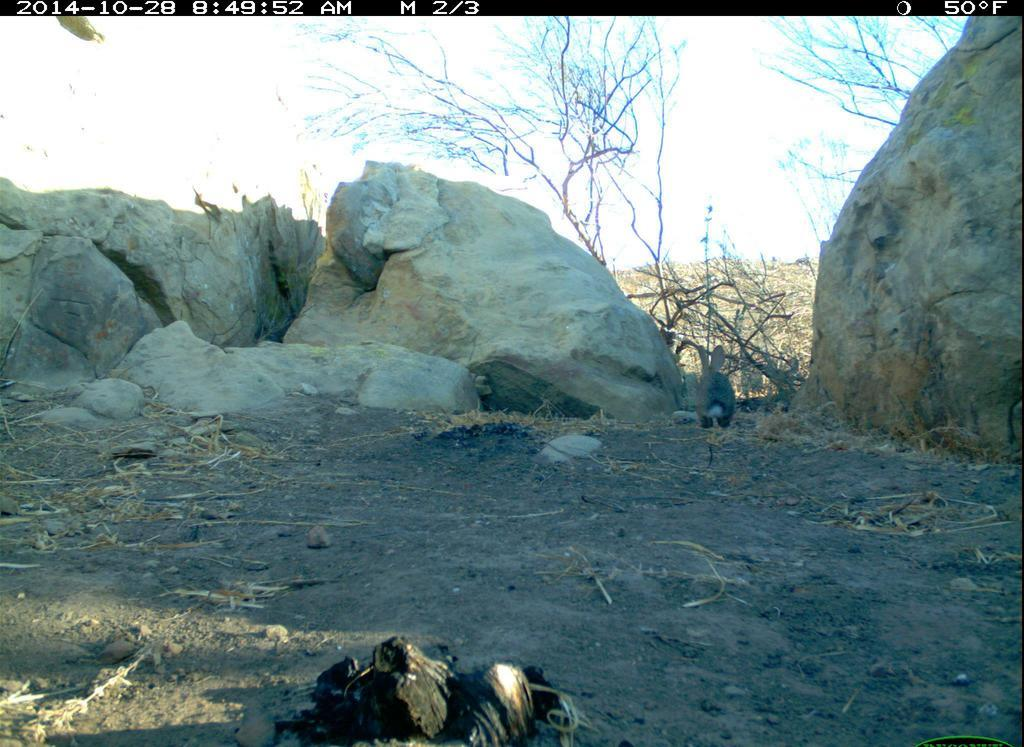rabbit: (689, 344, 751, 436)
